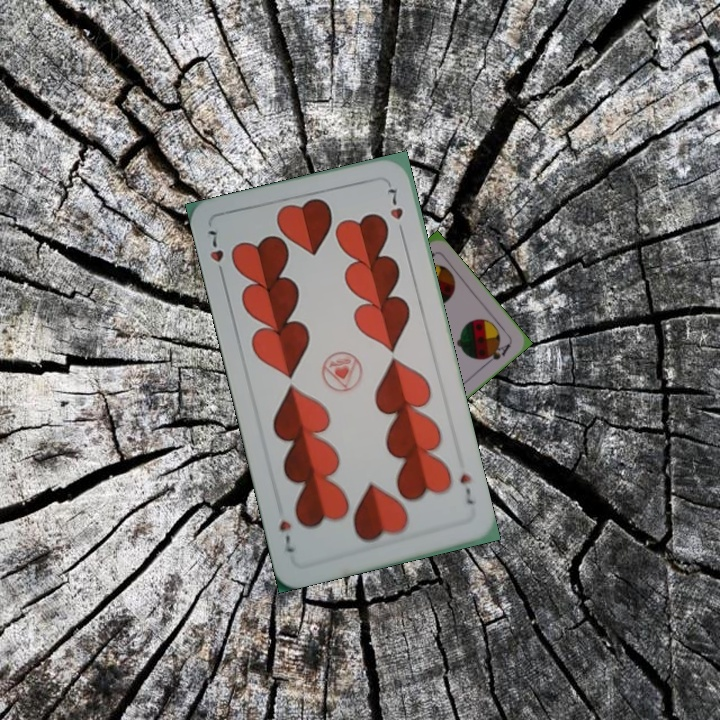H7: (203, 224, 227, 282), (455, 469, 476, 507)
